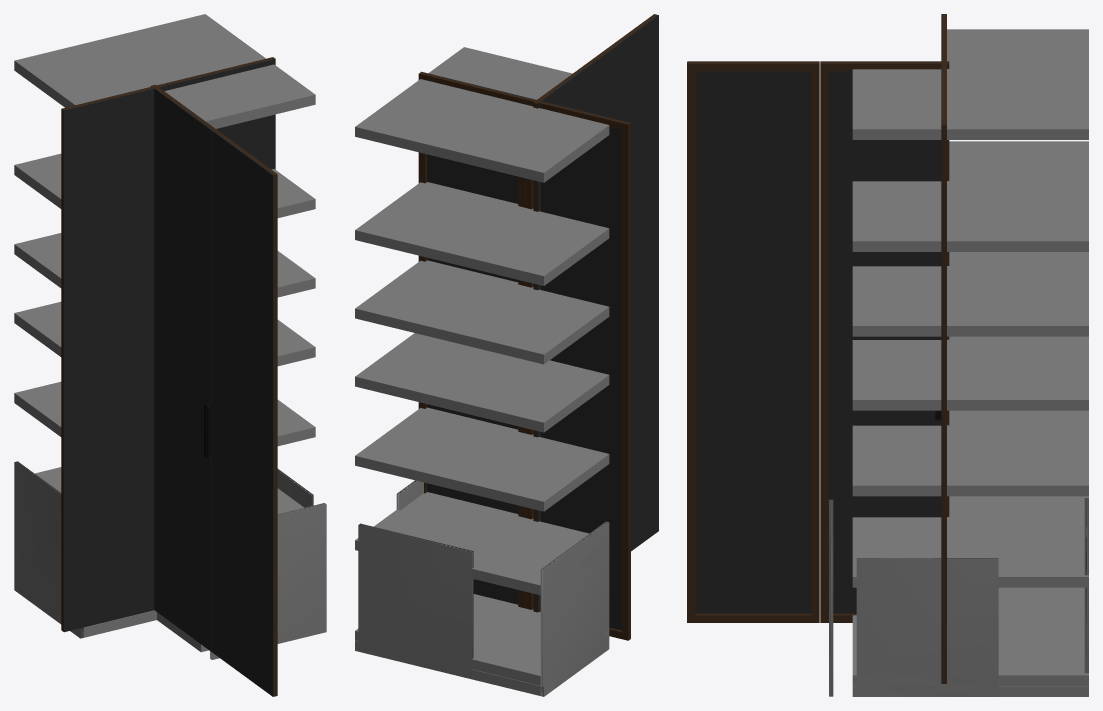
3 views of the same model, side by side, from view 1: azimuth 30°, elevation 25°; view 2: azimuth 150°, elevation 25°; view 3: azimuth 270°, elevation 25° (orthographic). The views are drawn at different scales.
Visible parts, largest first — view 1: showroom_05; view 2: showroom_05; view 3: showroom_05.
Boxes of the visible parts, x1,y1,x2,y2 form: showroom_05: (14, 14, 326, 696); showroom_05: (355, 14, 658, 696); showroom_05: (687, 14, 1088, 696).
Size of the model in its own units: 1.11 by 2.68 by 1.7.
